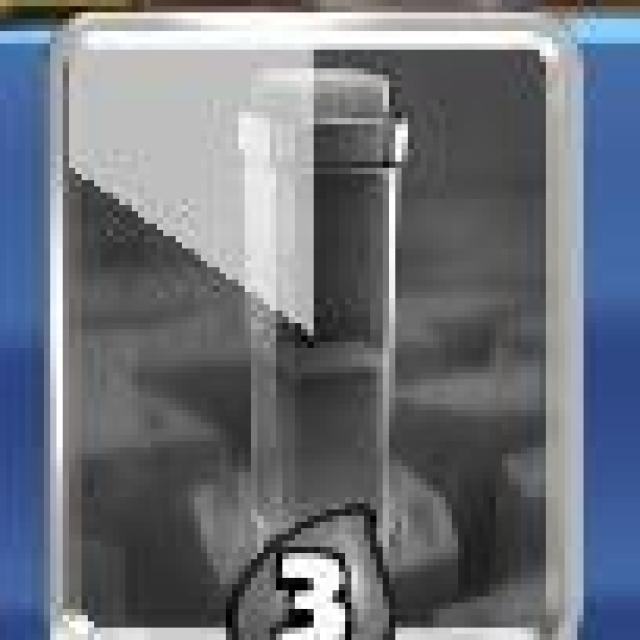Earthquake: (45, 10, 592, 640)
